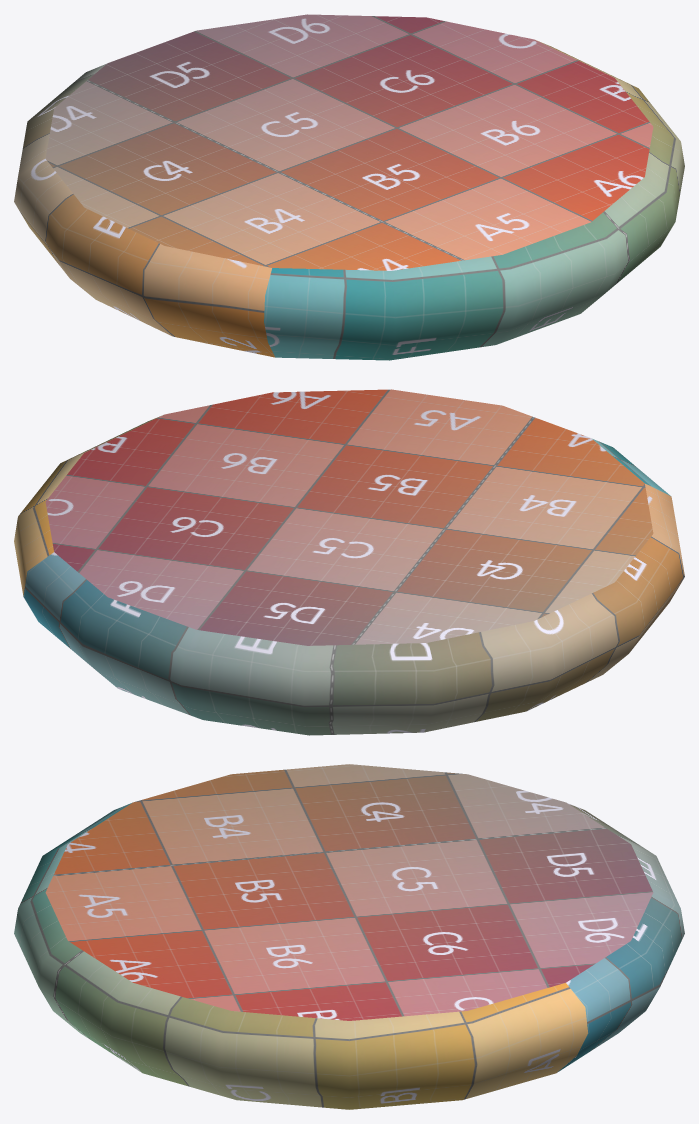
Rendered from LargeLid_SHAT.fbx.
3 views of the same model, one above another, from view 1: azimuth 30°, elevation 25°; view 2: azimuth 150°, elevation 25°; view 3: azimuth 270°, elevation 25° (orthographic).
Visible parts, largest first — view 1: LargeLid_SHAT.001; view 2: LargeLid_SHAT.001; view 3: LargeLid_SHAT.001.
Boxes of the visible parts, x1,y1,x2,y2 form: LargeLid_SHAT.001: (14,14,684,360); LargeLid_SHAT.001: (14,389,684,735); LargeLid_SHAT.001: (14,764,684,1109).
Size of the model in its own units: 0.4583 by 0.0712 by 0.4583.
Materials: 1 (1 with a texture image).
